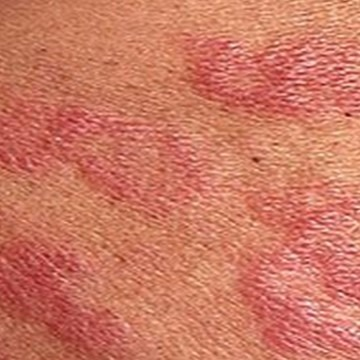Leprosy: (0, 102, 223, 226), (235, 185, 359, 359), (0, 229, 155, 359), (180, 32, 359, 121)
